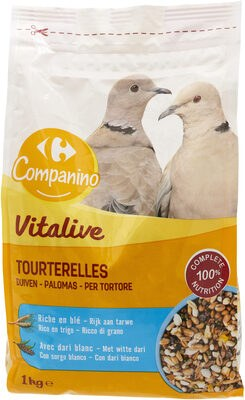Tourterelles: (12, 20, 233, 380)
